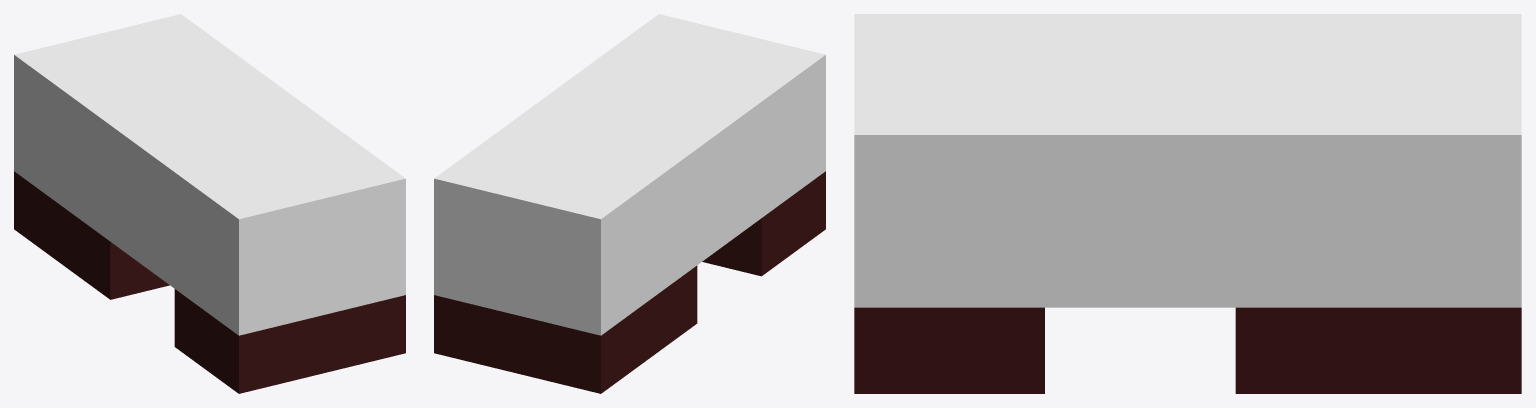
Rendered from Ankle.obj.
3 views of the same model, side by side, from view 1: azimuth 30°, elevation 25°; view 2: azimuth 150°, elevation 25°; view 3: azimuth 270°, elevation 25° (orthographic). The views are drawn at different scales.
Bounding box in the file's own units: 0.3 × 0.3 × 0.7.
Materials: 1 (1 with a texture image).
